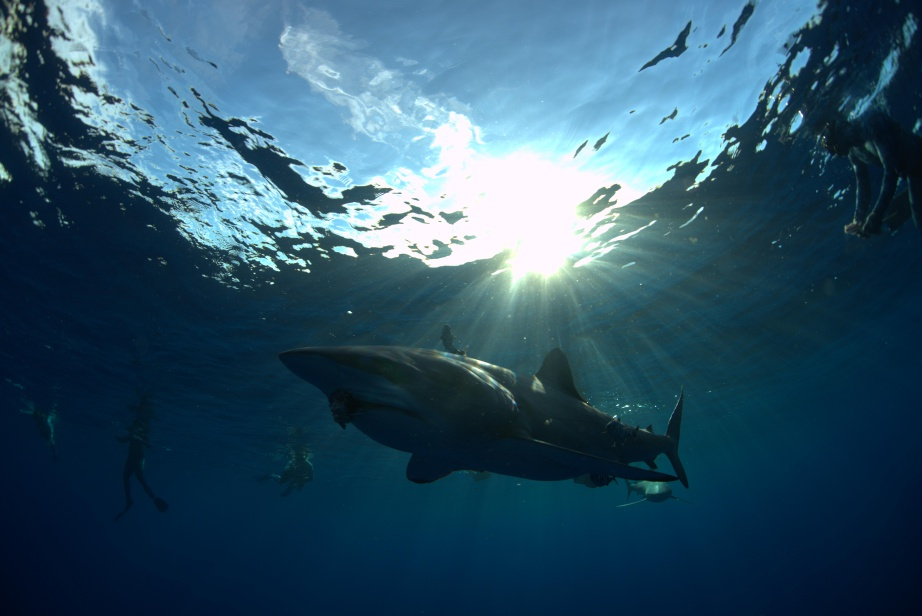Sedoso: (258, 317, 700, 497)
